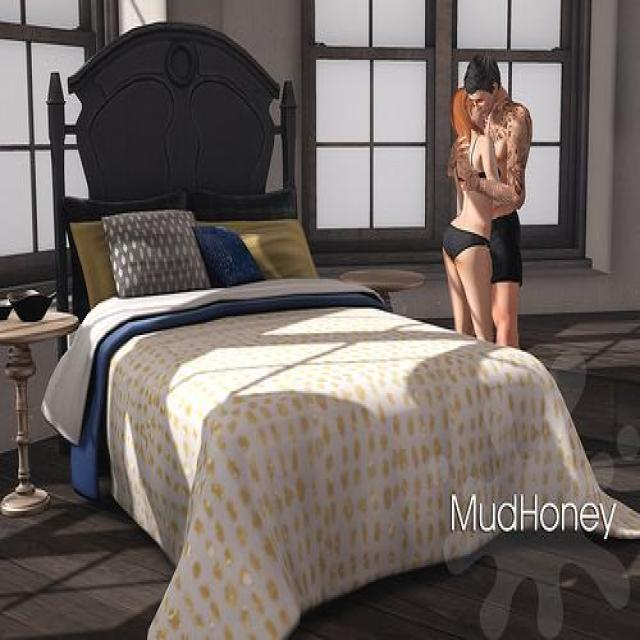bed: (58, 191, 609, 640)
